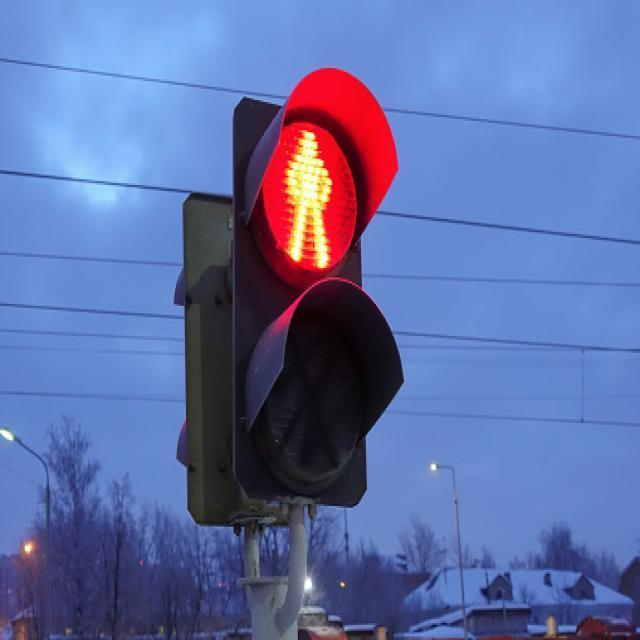red_light: (274, 126, 344, 263)
